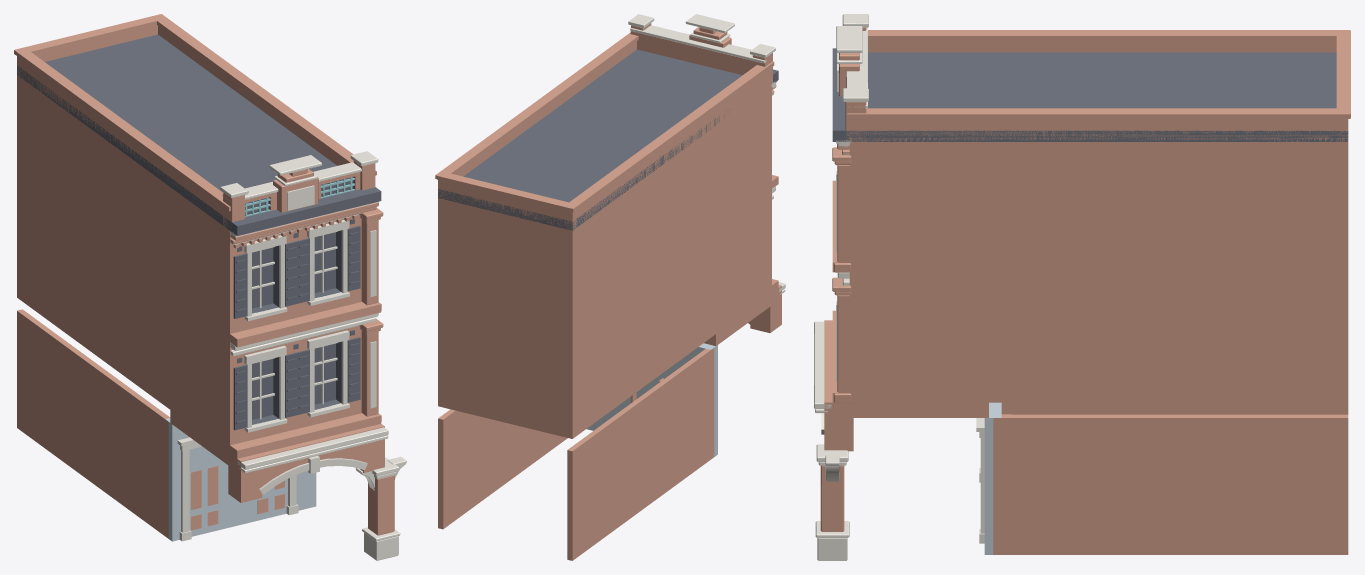
Rendered from dihua-min.glb.
The picture shows the model from 3 angles, left to right: view 1: azimuth 30°, elevation 25°; view 2: azimuth 150°, elevation 25°; view 3: azimuth 270°, elevation 25°; orthographic projection. The views are drawn at different scales.
Parts seen in each view (by area): view 1: main, crest, storey; view 2: main, crest, storey; view 3: main, storey, crest.
Boxes of the visible parts, left/top/right/bottom form: main: left=17, top=186, right=406, bottom=560; crest: left=14, top=14, right=381, bottom=248; storey: left=17, top=75, right=383, bottom=347; main: left=438, top=186, right=785, bottom=560; crest: left=435, top=14, right=778, bottom=230; storey: left=438, top=83, right=778, bottom=334; main: left=814, top=272, right=1348, bottom=560; storey: left=832, top=142, right=1348, bottom=272; crest: left=832, top=14, right=1350, bottom=154.
Bounding box in the file's own units: 5.4 × 12.34 × 12.7.
